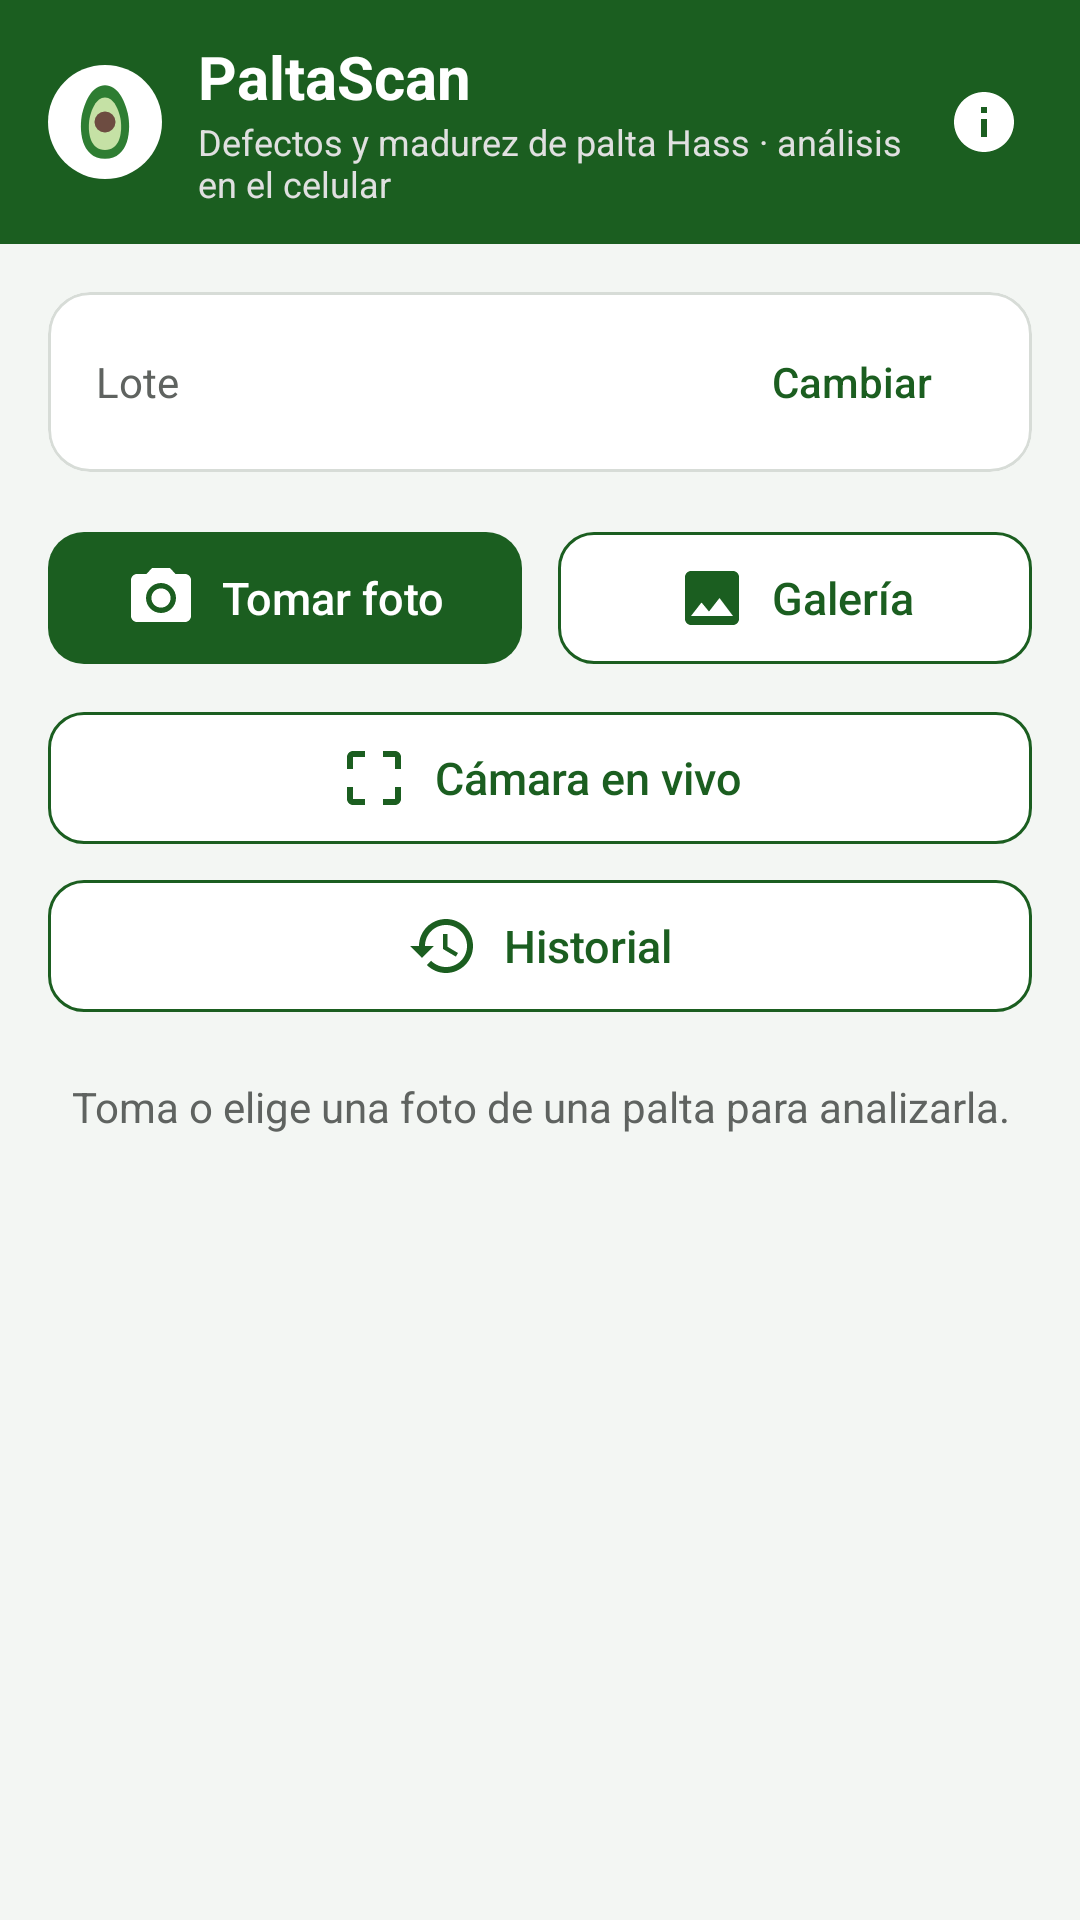

Icons on this 1080px x 1920px Android screen, each with its box as (x1, y1, x2, y2):
Cómo funciona: (954, 92, 1014, 152)
